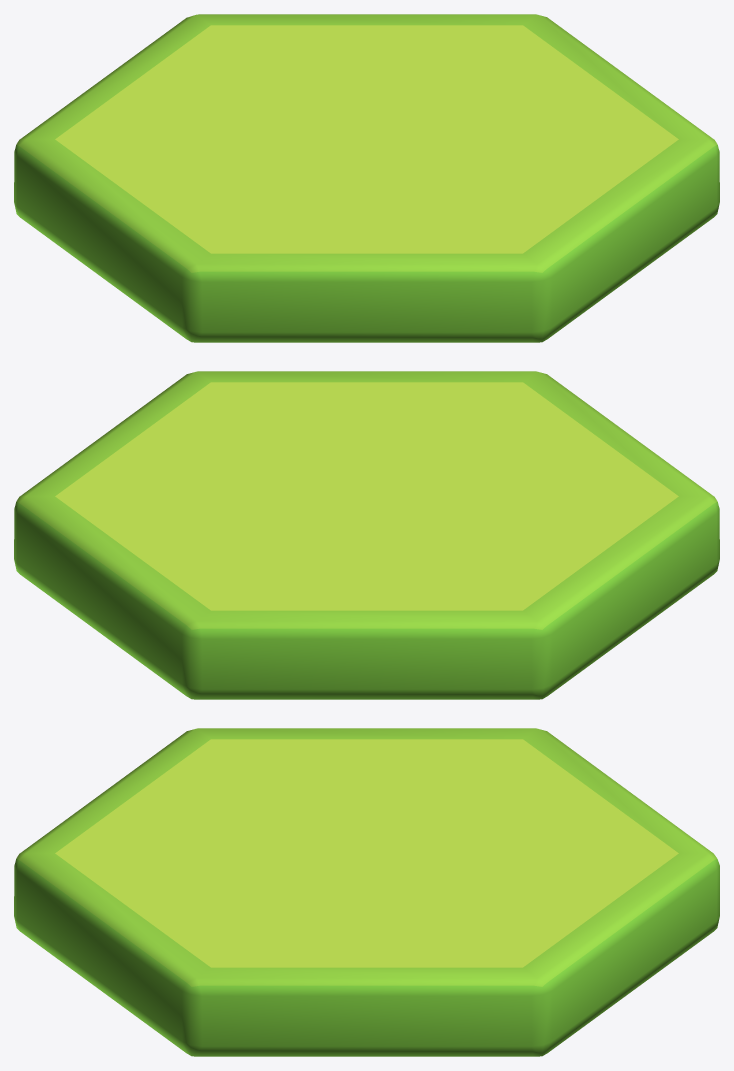
Rendered from Platform green 1.fbx.
The picture shows the model from 3 angles, top to bottom: view 1: azimuth 30°, elevation 25°; view 2: azimuth 150°, elevation 25°; view 3: azimuth 270°, elevation 25°; orthographic projection.
Visible parts, largest first — view 1: Platform green 1; view 2: Platform green 1; view 3: Platform green 1.
Boxes of the visible parts, x1,y1,x2,y2 form: Platform green 1: [14, 14, 719, 342]; Platform green 1: [14, 371, 719, 699]; Platform green 1: [14, 728, 719, 1056].
Size of the model in its own units: 625 by 83.5 by 715.
